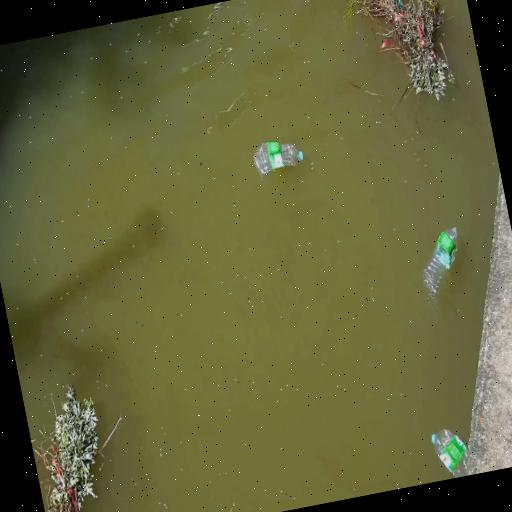plastic: (423, 227, 458, 296), (254, 141, 304, 175), (432, 430, 467, 476)
twig: (344, 0, 454, 100), (33, 384, 100, 512)
